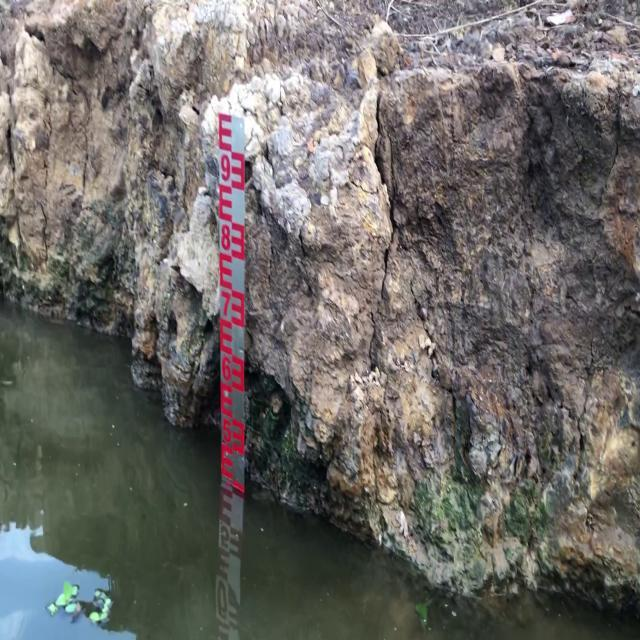ruler: (210, 109, 265, 499)
value: (217, 150, 232, 186), (219, 413, 233, 446), (218, 222, 232, 254), (218, 353, 232, 384), (218, 289, 232, 320)
